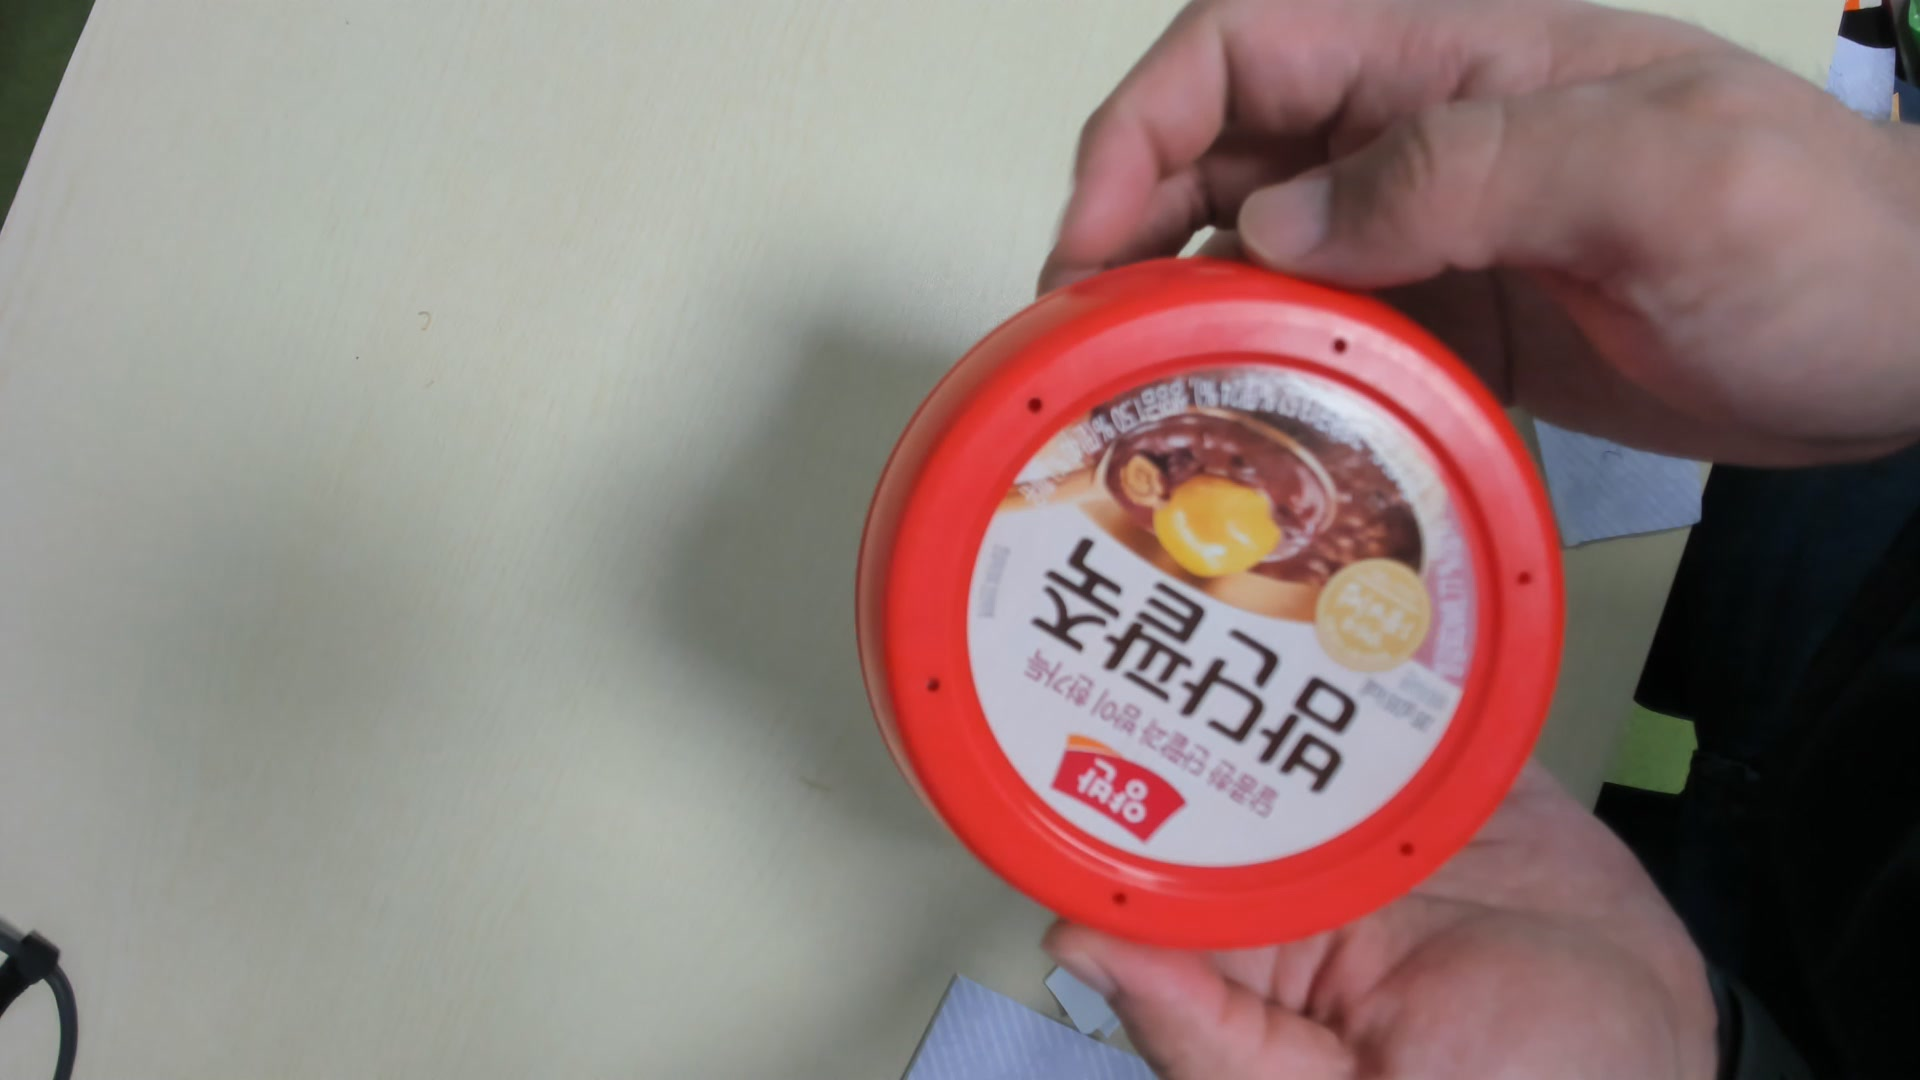InstantMeals_200_299g_NonHalal_NonHealthy: (855, 255, 1567, 959)
